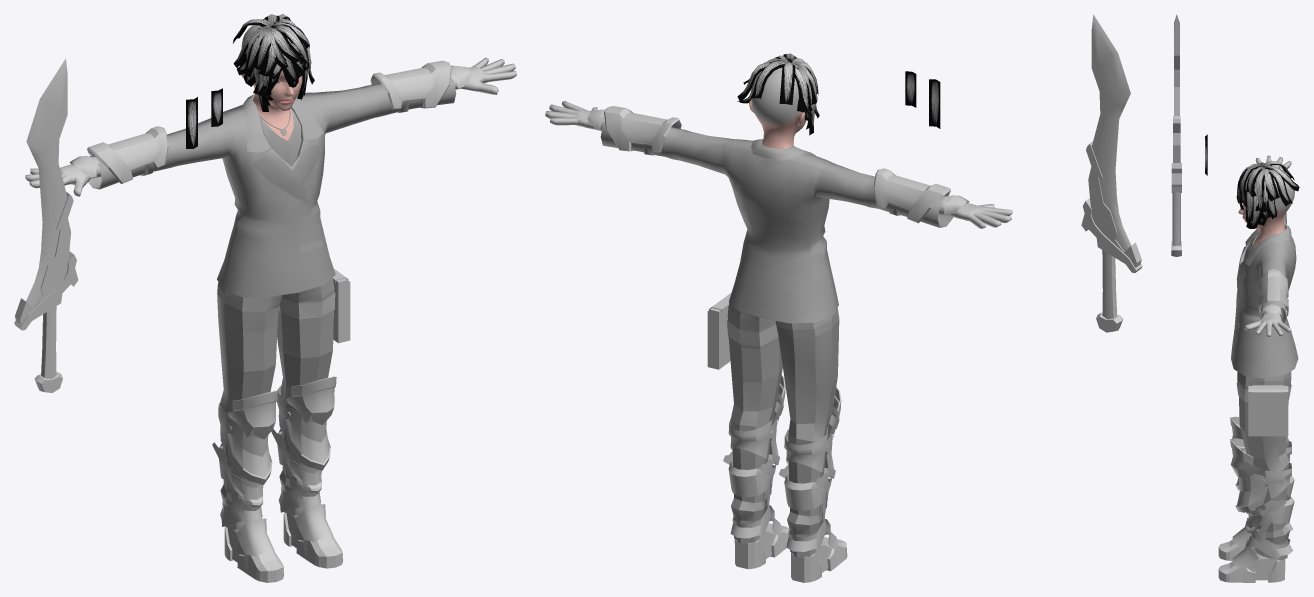
3 views of the same model, side by side, from view 1: azimuth 30°, elevation 25°; view 2: azimuth 150°, elevation 25°; view 3: azimuth 270°, elevation 25° (orthographic). The views are drawn at different scales.
Visible parts, largest first — view 1: polySurface26, pants3, pPlane22, pPlane7 (×2), polySurface58 (×2), pPlane10, pCube5 (×2), polySurface60 (×2), polySurface40 (×2), polySurface38 (×2), pCube3 (×2), polySurface47 (×2) (+7 smaller); view 2: polySurface26, pants3, pPlane22, pPlane7 (×2), polySurface40 (×2), pCube5 (×2), head17, pPlane36 (×2), polySurface47 (×2), pPlane24, polySurface56, pPlane28 (+2 smaller); view 3: polySurface26, pants3, pCube5 (×2), polySurface56, polySurface40, polySurface57, head17, pPlane7, polySurface58, pPlane10, polySurface60 (×2), pCube3 (×2) (+15 smaller).
Boxes of the visible parts, bbox=[...] form: polySurface26: bbox=[88, 78, 456, 297]; pants3: bbox=[217, 277, 334, 529]; pPlane22: bbox=[26, 58, 67, 307]; pPlane7 (×2): bbox=[87, 60, 451, 183]; polySurface58 (×2): bbox=[225, 407, 330, 484]; pPlane10: bbox=[242, 94, 323, 202]; pCube5 (×2): bbox=[224, 512, 342, 582]; polySurface60 (×2): bbox=[232, 376, 336, 439]; polySurface40 (×2): bbox=[219, 428, 321, 526]; polySurface38 (×2): bbox=[212, 429, 321, 507]; pCube3 (×2): bbox=[236, 504, 333, 555]; polySurface47 (×2): bbox=[25, 57, 516, 196]; polySurface26: bbox=[600, 122, 953, 323]; pants3: bbox=[727, 303, 839, 557]; pPlane22: bbox=[1091, 14, 1131, 251]; pPlane7 (×2): bbox=[604, 106, 950, 223]; polySurface40 (×2): bbox=[728, 461, 826, 552]; pCube5 (×2): bbox=[734, 523, 847, 582]; head17: bbox=[749, 67, 806, 148]; pPlane36 (×2): bbox=[728, 419, 829, 472]; polySurface47 (×2): bbox=[545, 101, 1012, 228]; pPlane24: bbox=[1086, 141, 1141, 267]; polySurface56: bbox=[707, 307, 730, 369]; pPlane28: bbox=[1102, 250, 1117, 319]; polySurface26: bbox=[1231, 212, 1298, 378]; pants3: bbox=[1237, 371, 1291, 560]; pCube5 (×2): bbox=[1218, 540, 1285, 582]; polySurface56: bbox=[1248, 386, 1288, 436]; polySurface40: bbox=[1247, 493, 1294, 559]; polySurface57: bbox=[1252, 385, 1284, 414]; head17: bbox=[1238, 169, 1294, 248]; pPlane7: bbox=[1258, 269, 1288, 315]; polySurface58: bbox=[1235, 469, 1267, 512]; pPlane10: bbox=[1236, 224, 1291, 302]; polySurface60 (×2): bbox=[1230, 416, 1253, 476]; pCube3 (×2): bbox=[1232, 517, 1258, 568].
Size of the model in its own units: 190 by 196 by 50.1.
